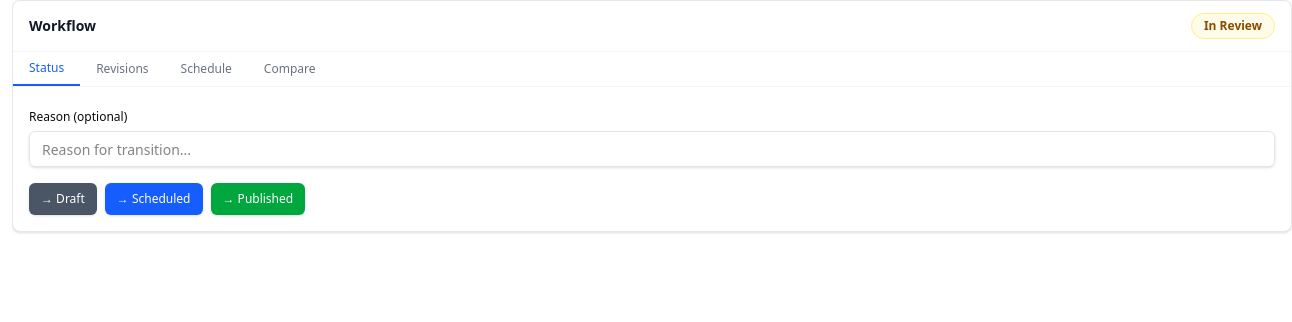
it: WorkflowPanel › switches to schedule tab and shows datetime picker
Step 1. Click the button "Schedule" → (206, 69), box [165,52,248,86]
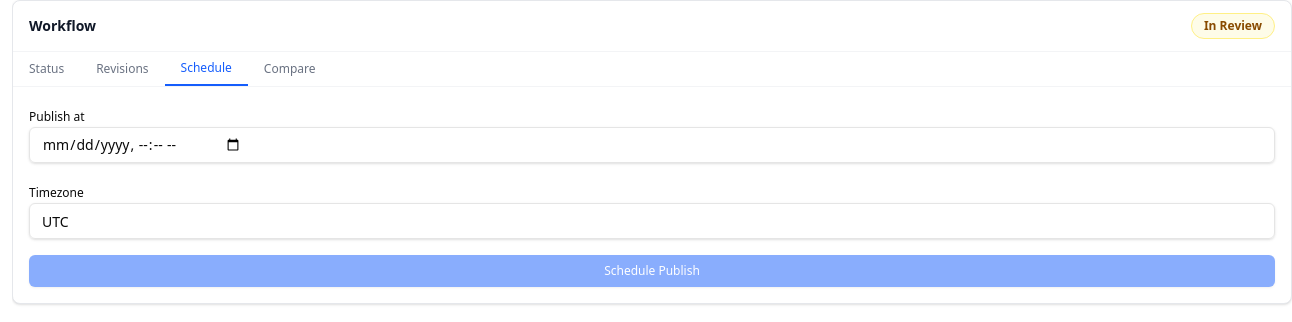
Expected: the field labelled "Publish at" is shown, [29,127,1275,163]
Expected: the field labelled "Timezone" is shown, [29,203,1275,239]
Expected: the button "Schedule Publish" is shown, [29,255,1275,287]
